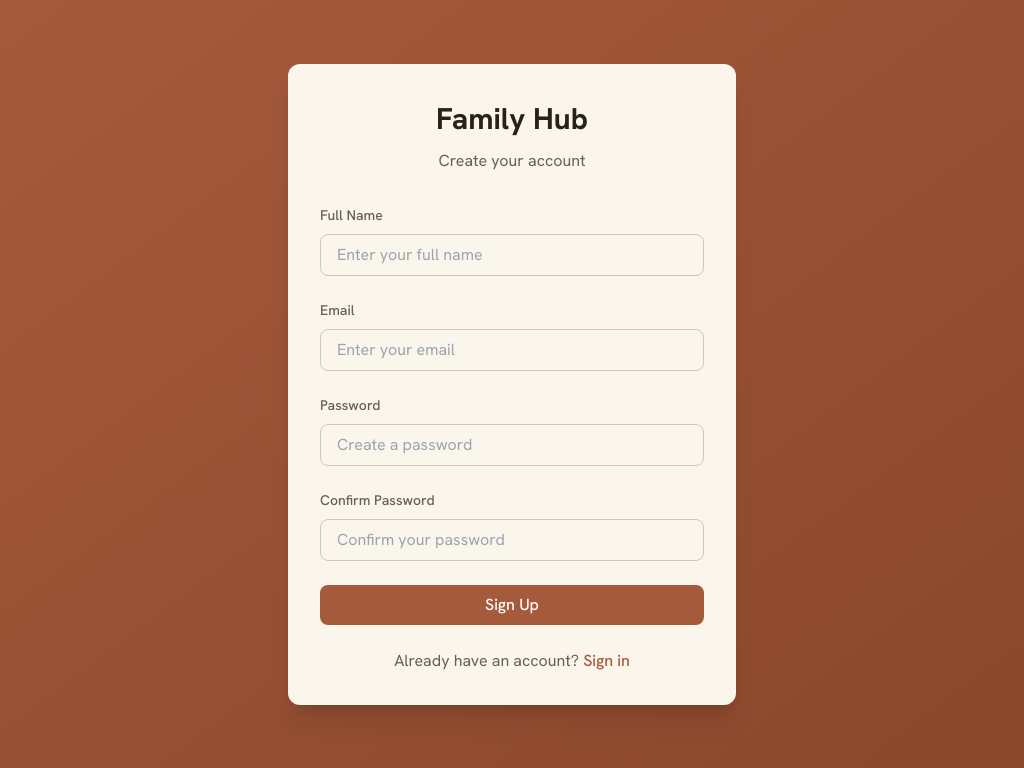
Scenario: Authentication Pages › Signup Page › should surface a signup failure as an error message
Type "User" into the field with placeholder "Enter your full name" at (512, 254), box x1=320 y1=234 x2=704 y2=276
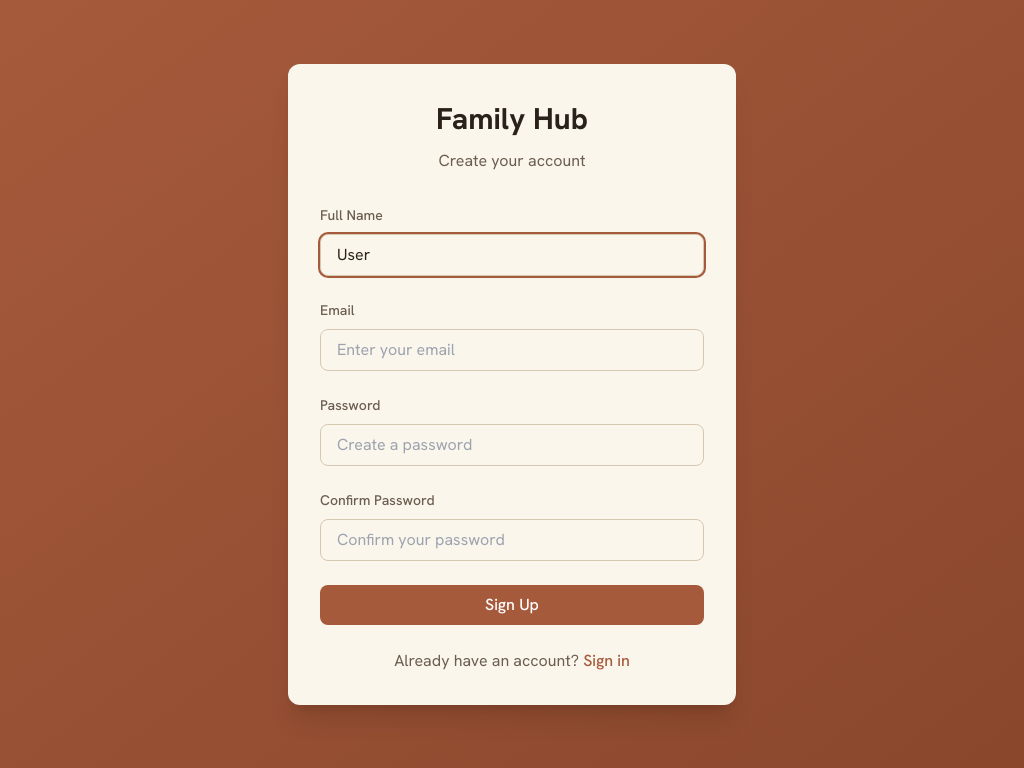
Type "user@example.com" into the field with placeholder "Enter your email" at (512, 350), box x1=320 y1=328 x2=704 y2=370
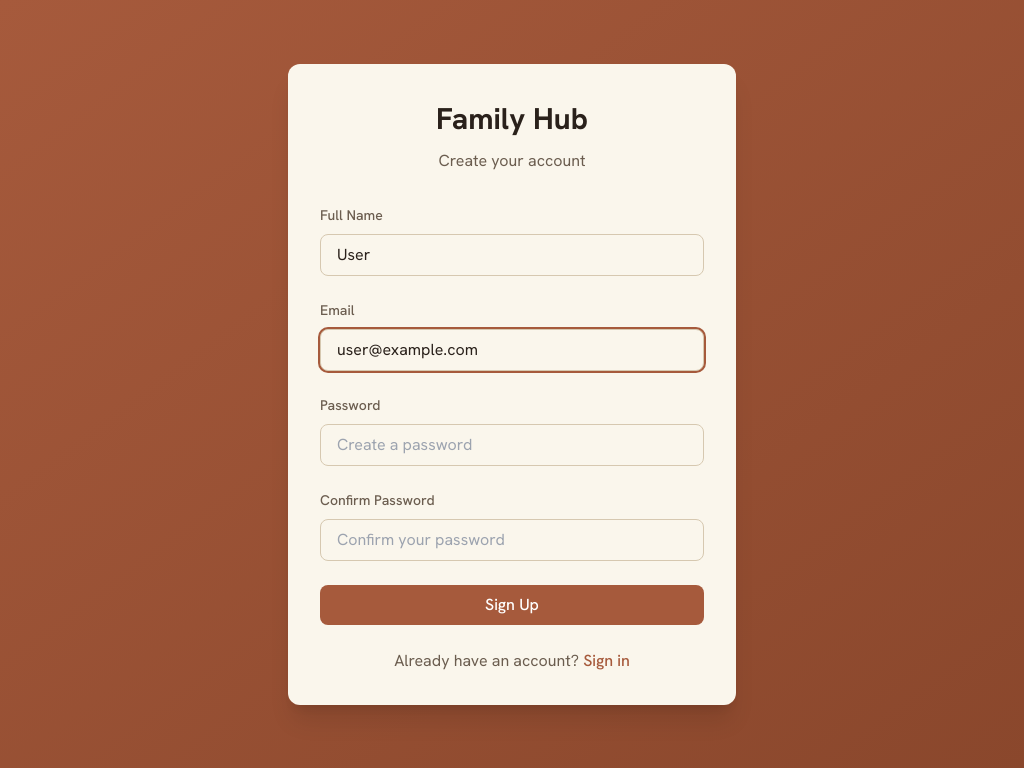
Type "password123" into the password field with placeholder "Create a password" at (512, 444), box x1=320 y1=424 x2=704 y2=466
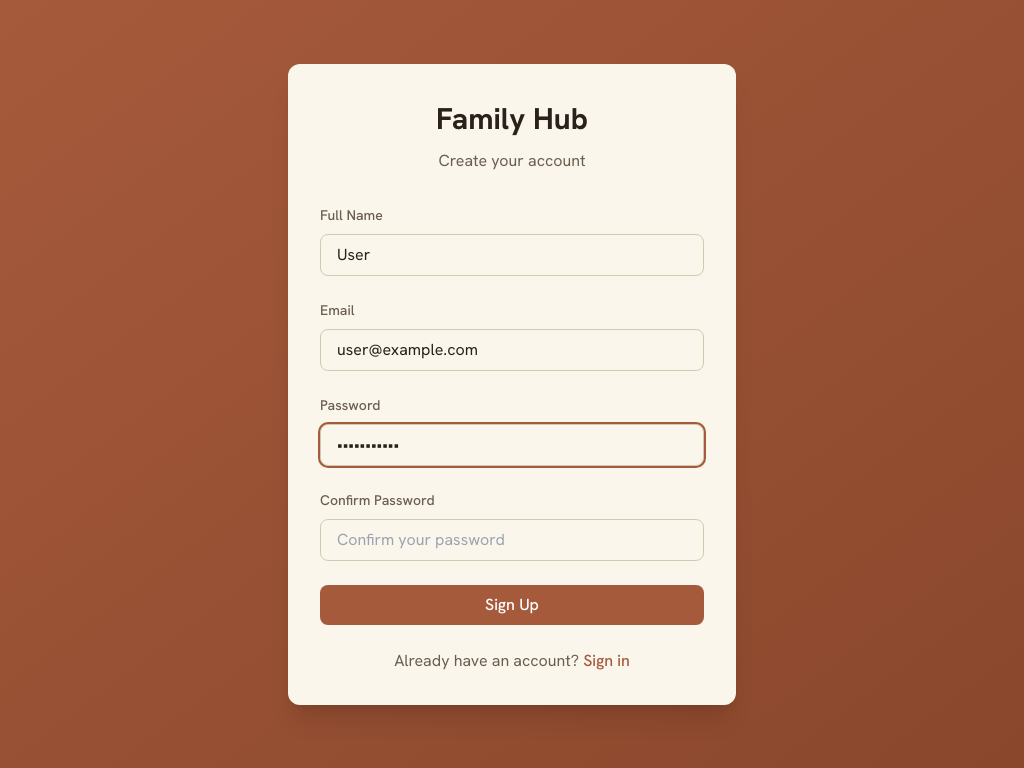
Type "password123" into the password field with placeholder "Confirm your password" at (512, 540), box x1=320 y1=518 x2=704 y2=560
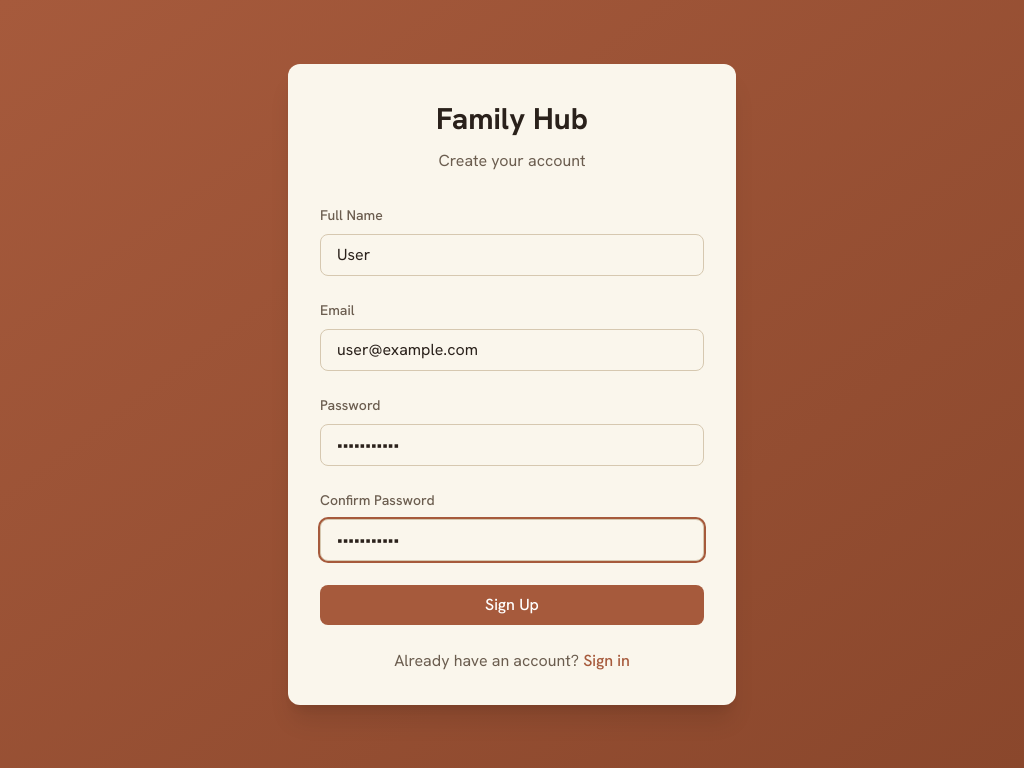
Click the button "Sign Up" at (512, 604), box x1=320 y1=584 x2=704 y2=624
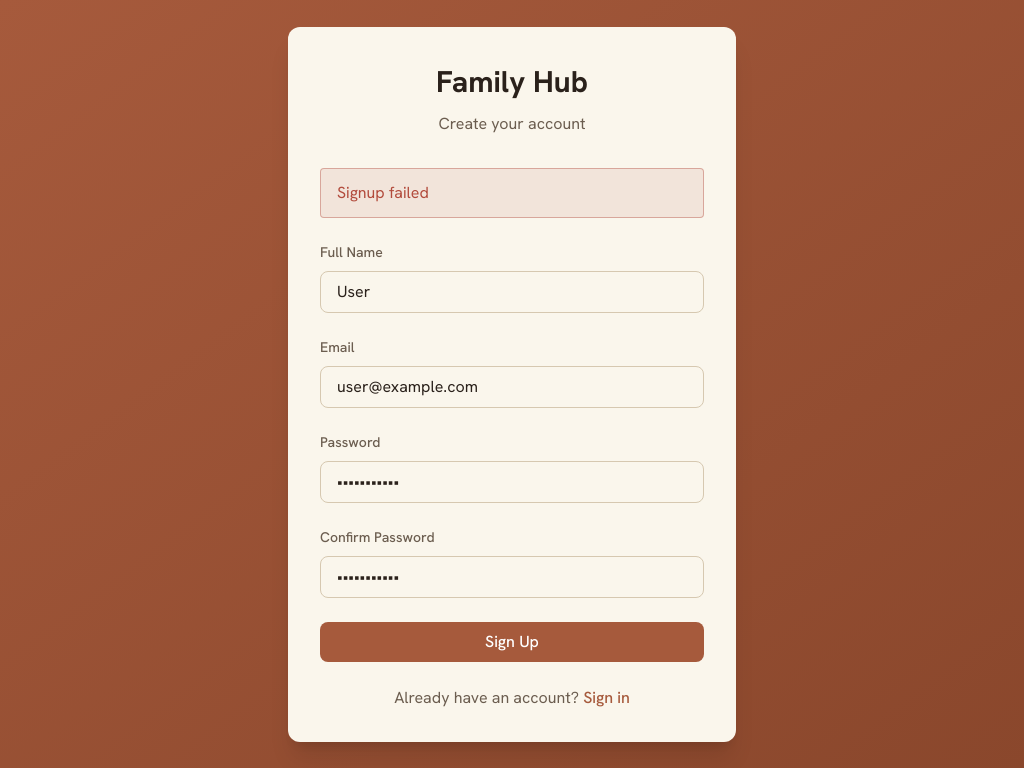
Result: the text "Signup failed" is shown at x1=320 y1=168 x2=704 y2=218
